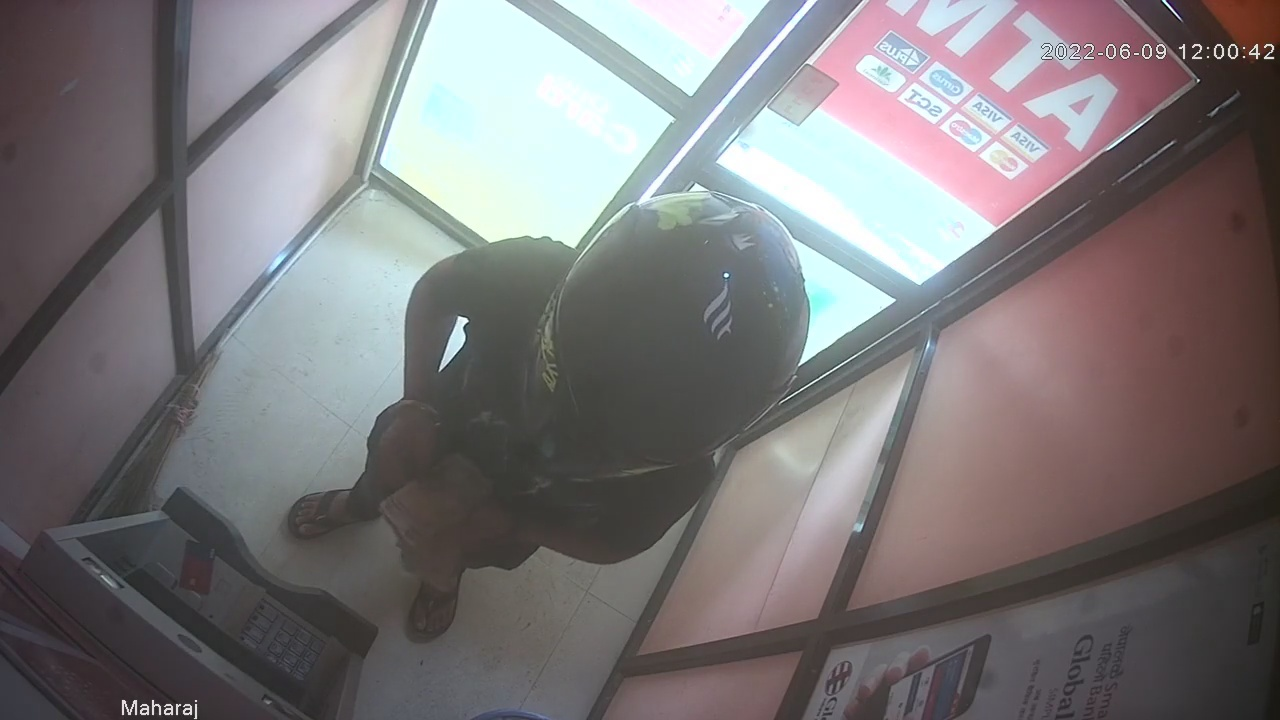helmet: (520, 188, 810, 483)
person: (288, 188, 812, 645)
